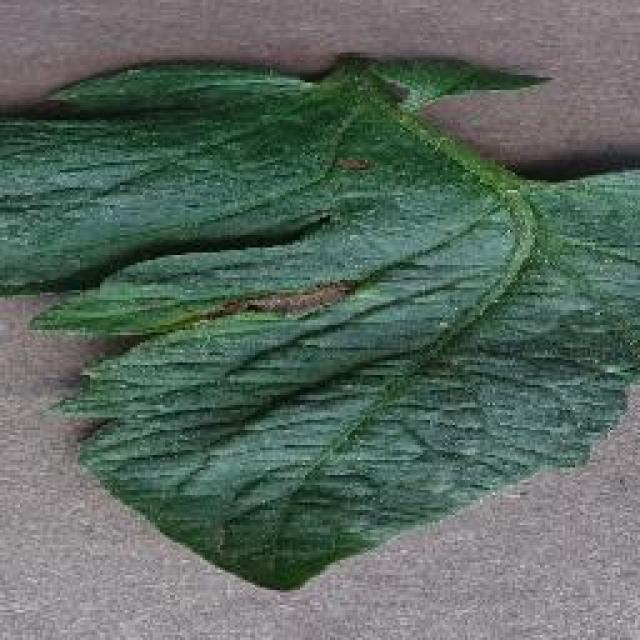Tomato___Early_blight: (0, 50, 638, 594)
